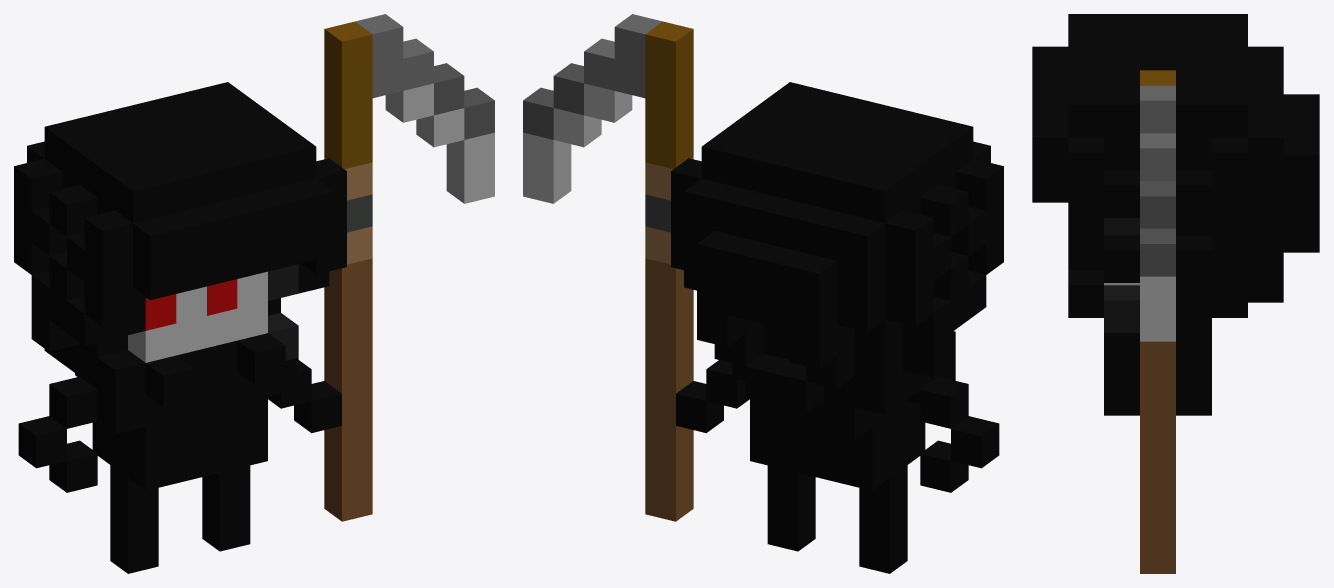
Rendered from death.glb.
3 renders of one model, left to right at view 1: azimuth 30°, elevation 25°; view 2: azimuth 150°, elevation 25°; view 3: azimuth 270°, elevation 25°, orthographic.
Visible parts, largest first — view 1: node0; view 2: node0; view 3: node0.
Part boxes in pixels (<box>): node0: <box>14,14,494,573</box>; node0: <box>523,14,1003,573</box>; node0: <box>1032,14,1319,573</box>.
Size of the model in its own units: 1.5 by 1.5 by 0.8.
Materials: 1 (1 with a texture image).
